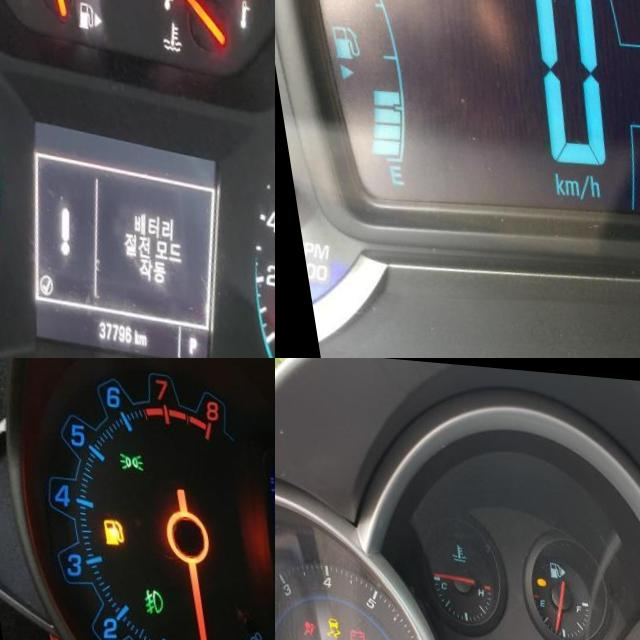FrontFogLight: (127, 583, 150, 613)
Low fuel level: (89, 515, 112, 543)
SideLamp: (108, 448, 133, 467)
